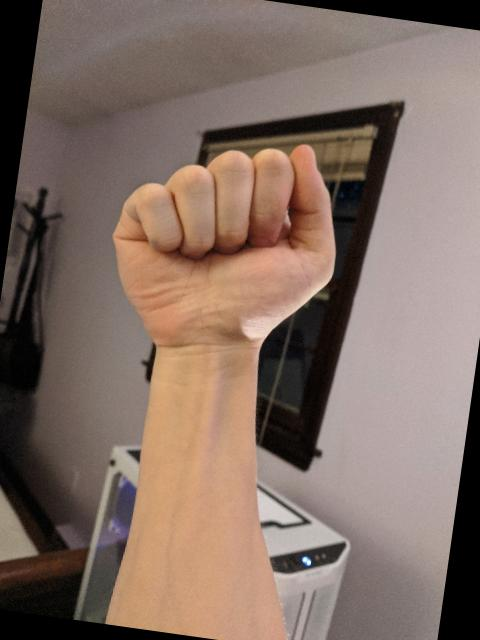A: (88, 112, 357, 388)
